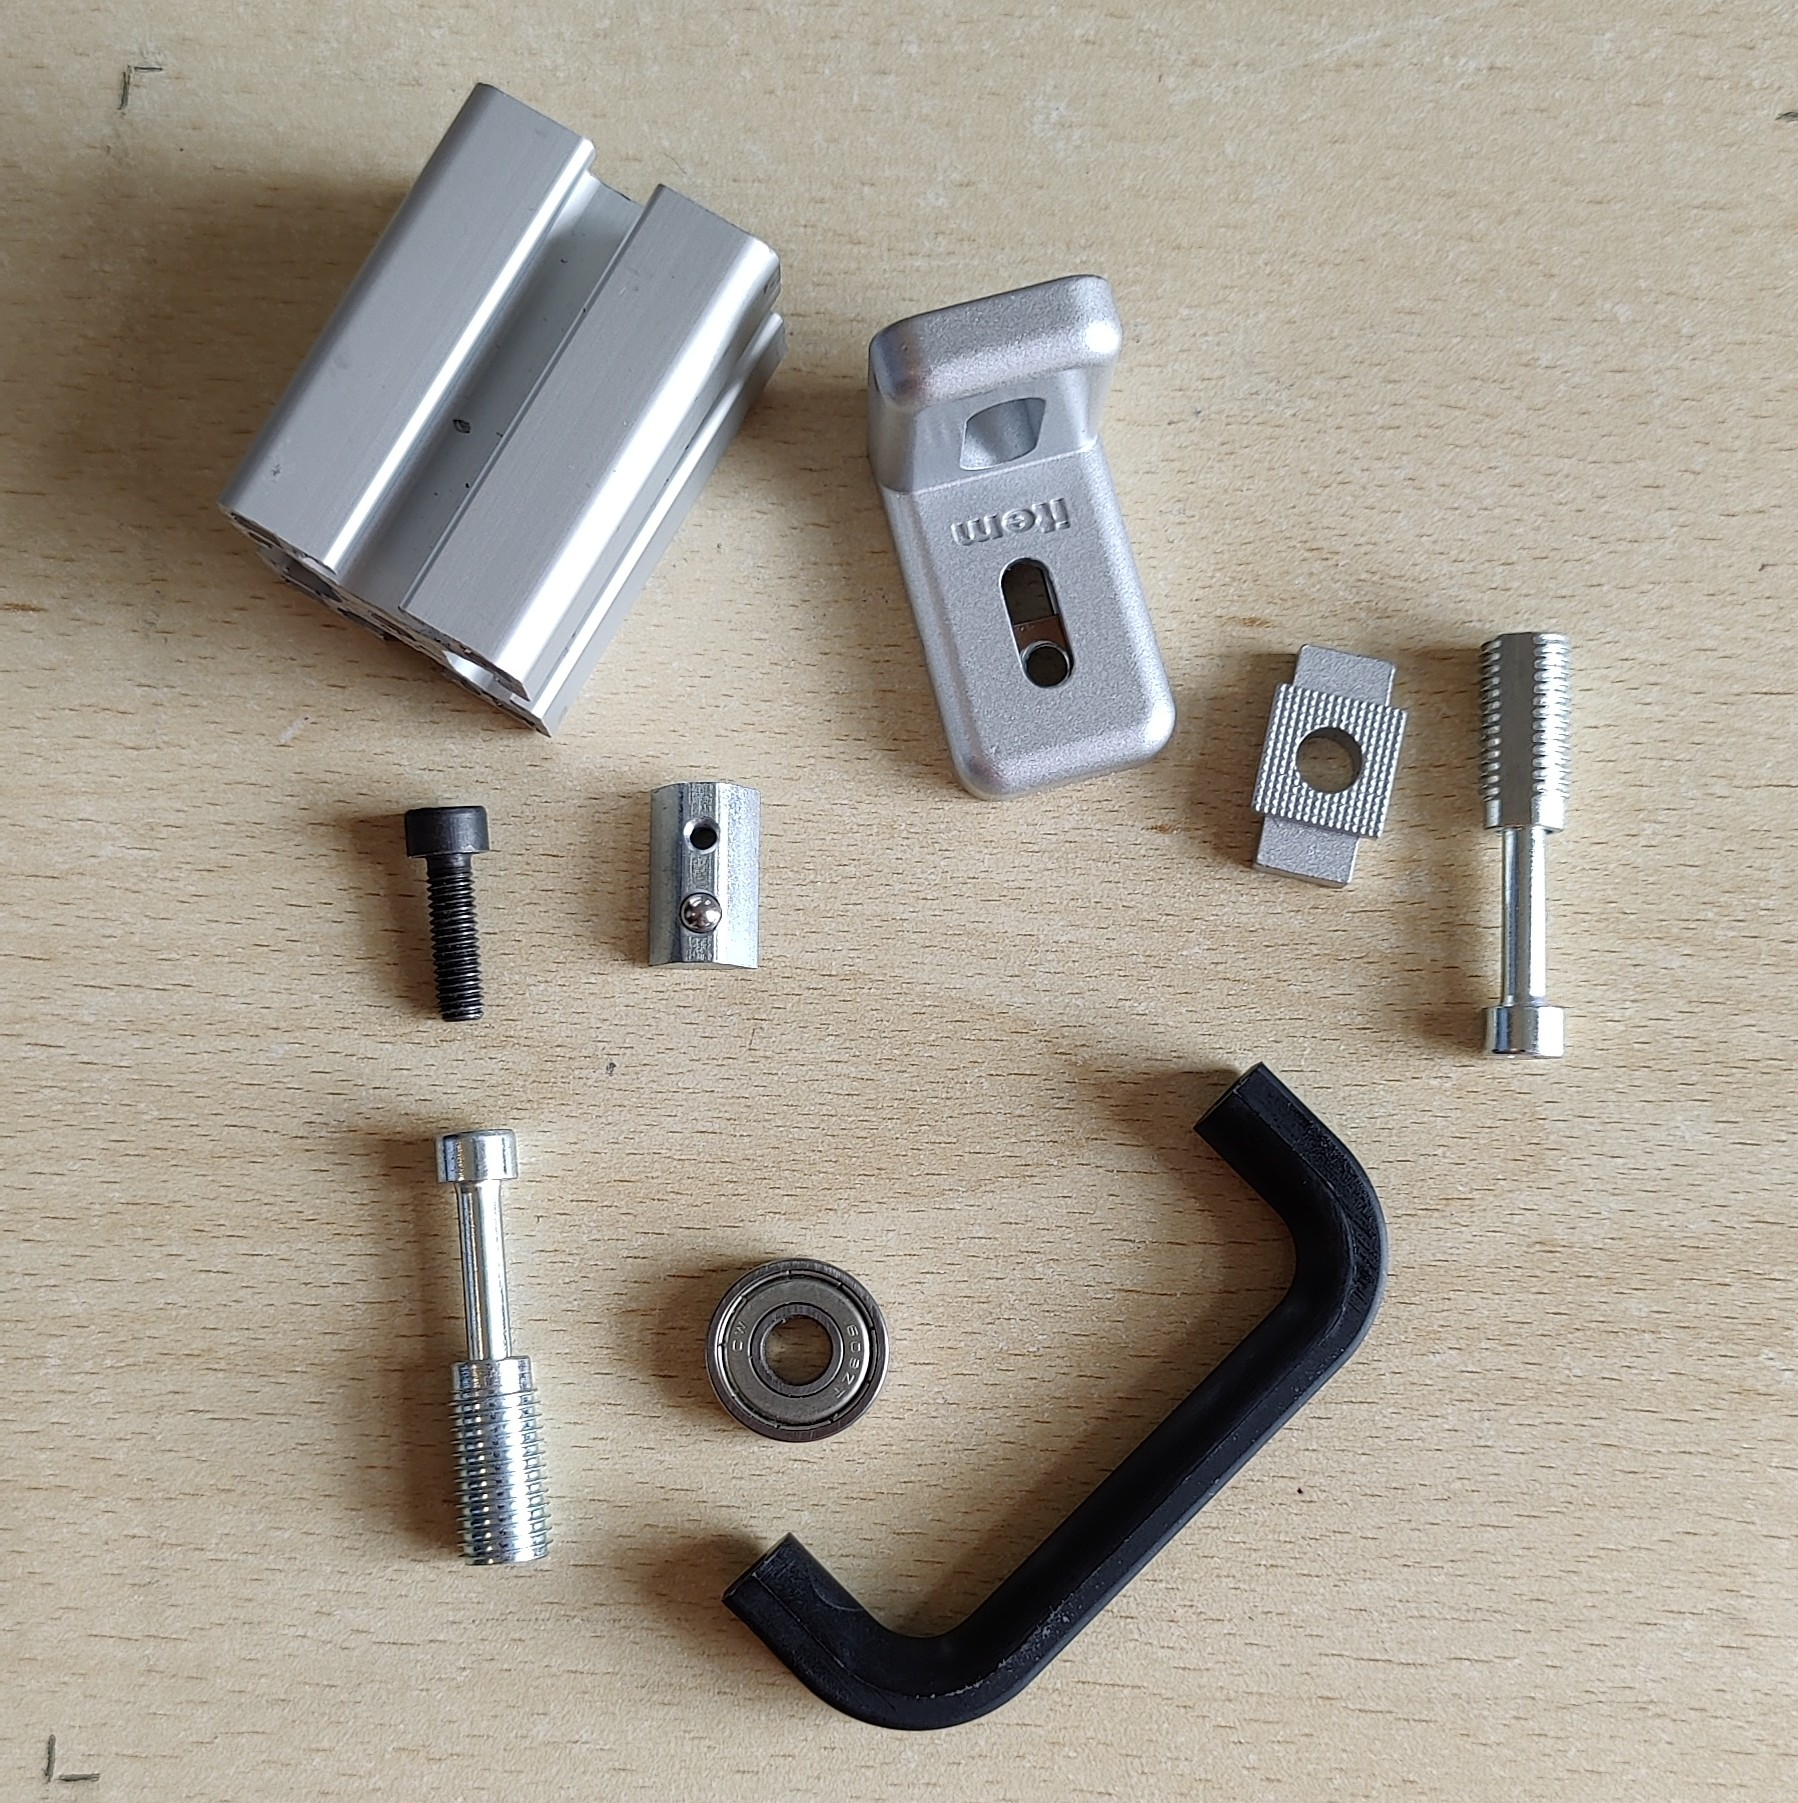Aluminium Extension: (211, 77, 789, 741)
Ball Bearing: (701, 1253, 891, 1446)
Multiwinkel: (863, 272, 1181, 805)
Pull Handle: (718, 1059, 1391, 1734)
Shoulder Socket Head Cap Screw: (430, 1125, 558, 1571), (1472, 629, 1572, 1064)
Socket Head Cap Screw: (398, 804, 496, 1026)
T Nut Square: (1250, 641, 1409, 892)
T Spring Nut: (644, 777, 762, 975)
